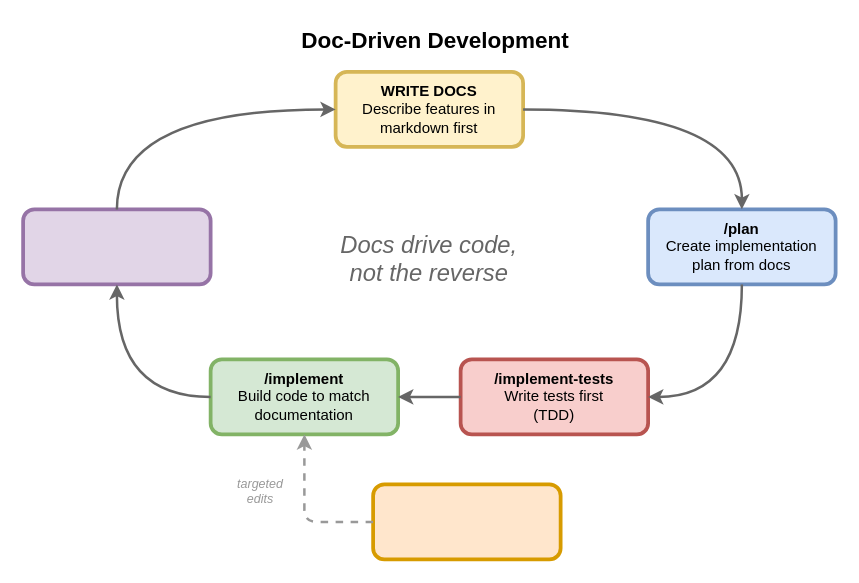
Some shapes in this 859 by 583 pixel diagram are drawn without their labels. The centre of each missing label's shape, as x and y in pixels:
"/execute Surgical changes via @CLAUDE markers" goes at point (466, 521).
"/update-docs Sync docs with implementation" goes at point (116, 246).
